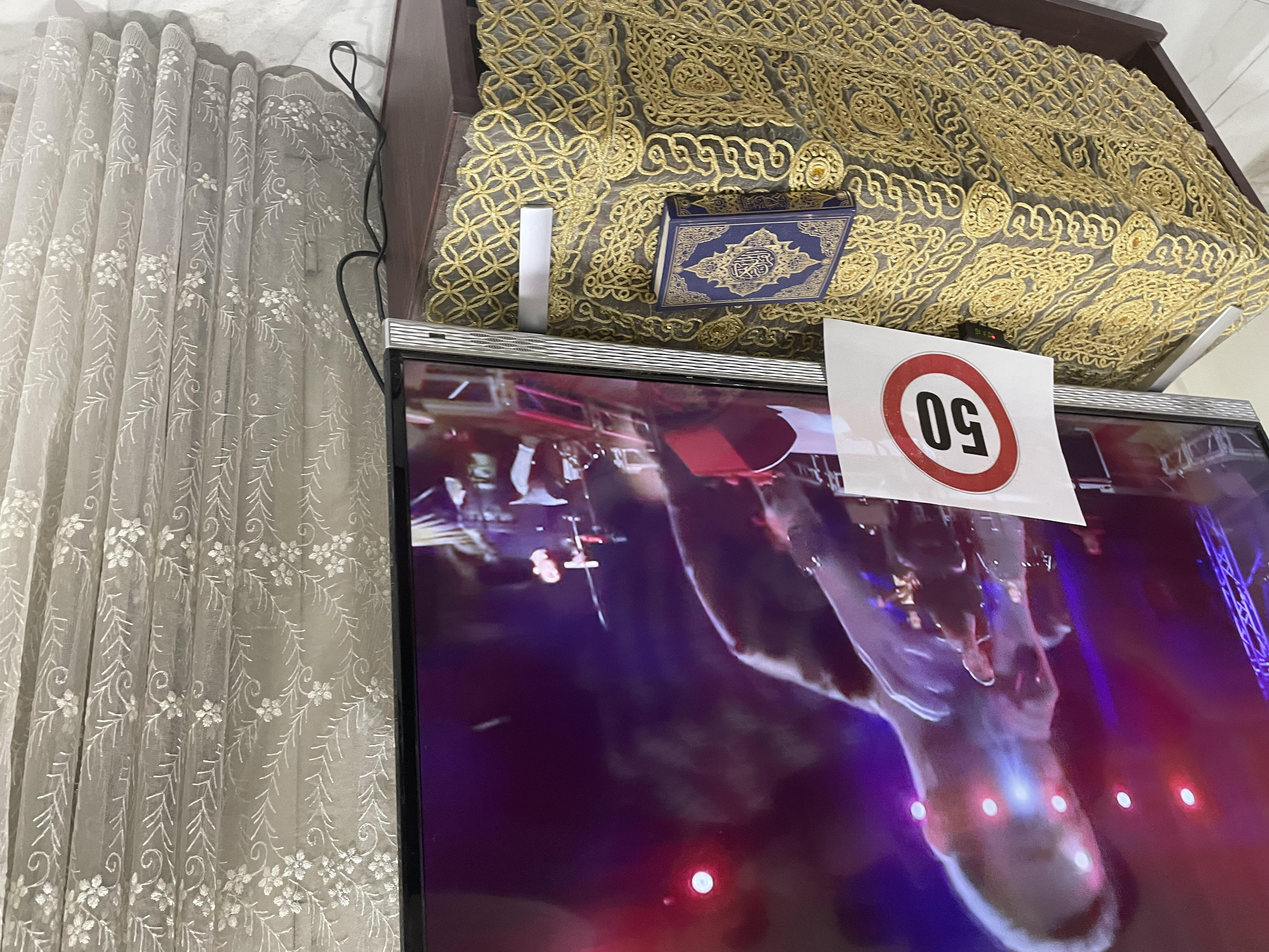50-Speed: (240, 444, 394, 602)
